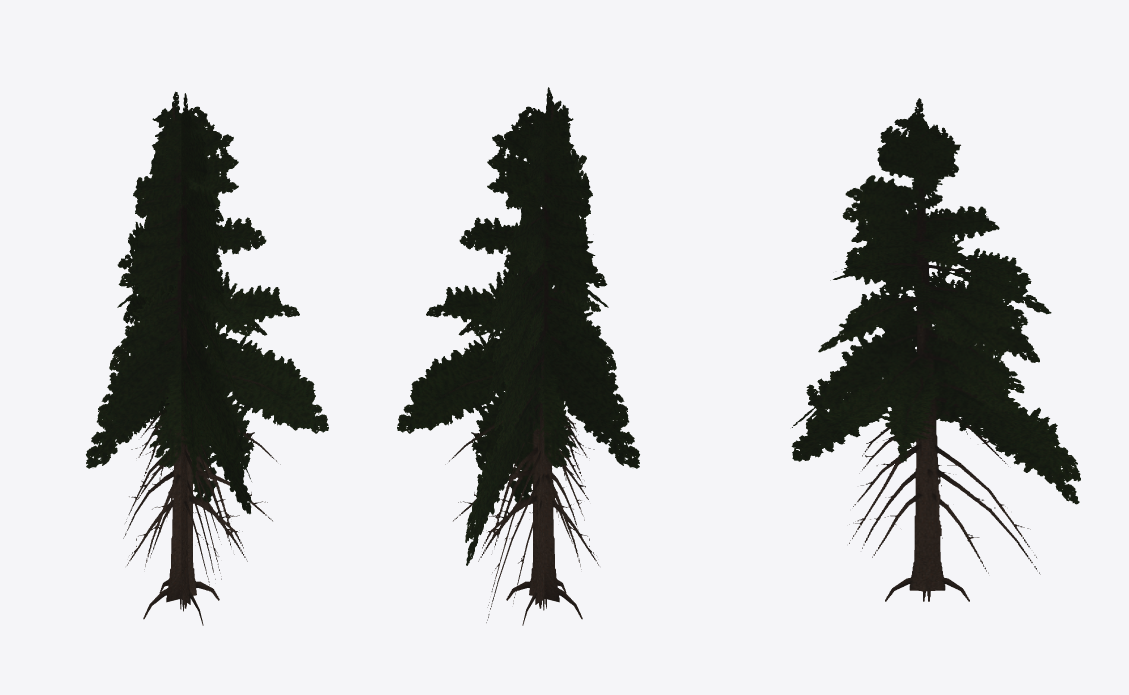
The model's file is pine_a_billboard.glb.
The picture shows the model from 3 angles, left to right: view 1: azimuth 30°, elevation 25°; view 2: azimuth 150°, elevation 25°; view 3: azimuth 270°, elevation 25°; orthographic projection. The views are drawn at different scales.
Visible parts, largest first — view 1: pine_a_billboard; view 2: pine_a_billboard; view 3: pine_a_billboard.
Part boxes in pixels (bbox=[...]): pine_a_billboard: bbox=[86, 91, 328, 625]; pine_a_billboard: bbox=[397, 87, 639, 625]; pine_a_billboard: bbox=[791, 98, 1080, 601].
Size of the model in its own units: 9.88 by 14.83 by 9.88.
Materials: 1 (1 with a texture image).
